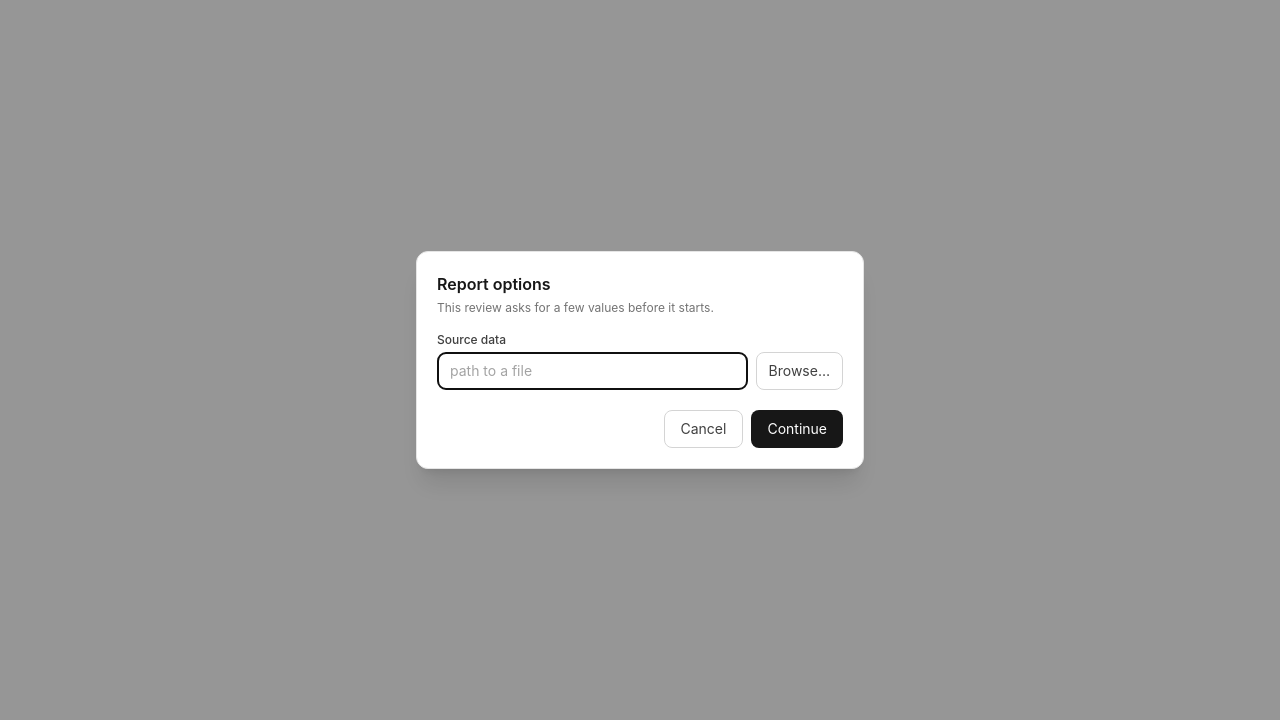
Test: VariablePrompt accessibility › surfaces a file-variable picker failure with the variable name
Click the button "Browse…" at point(799, 371), box [756, 352, 843, 390]
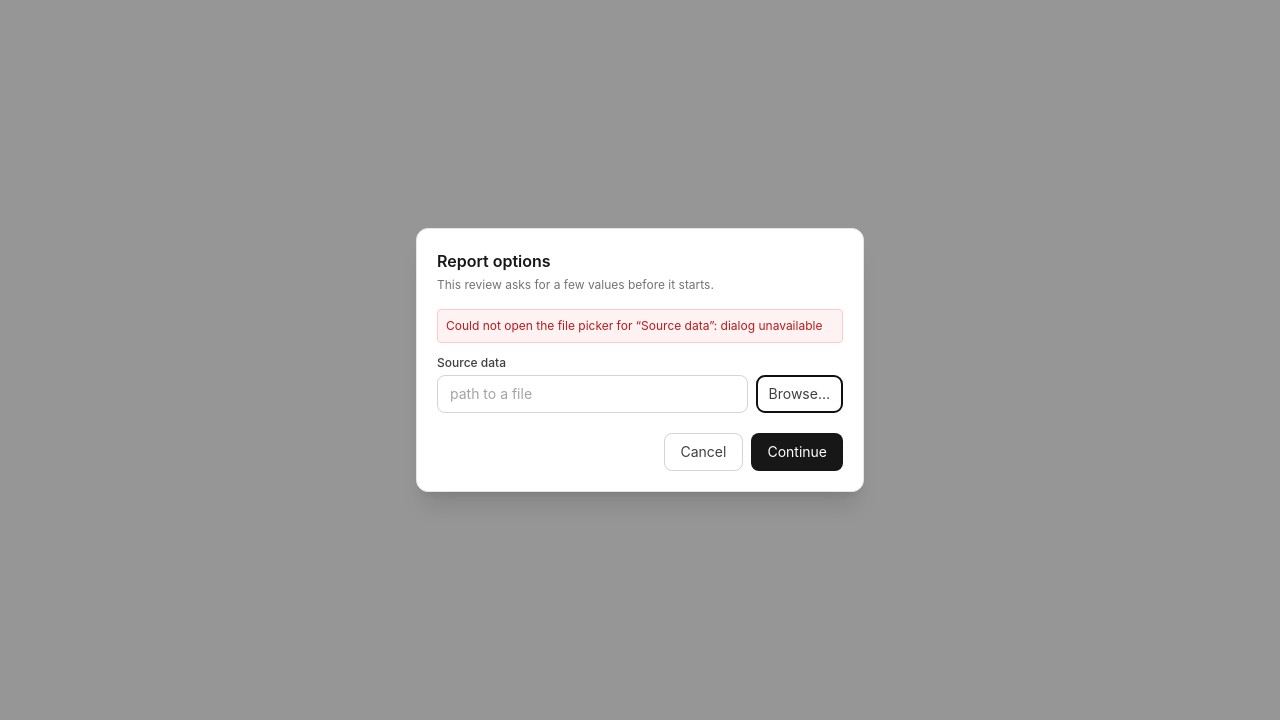
expect the message reads "Could not open the file picker for “Source data”: dialog unavailable": met, box [446, 318, 822, 333]
